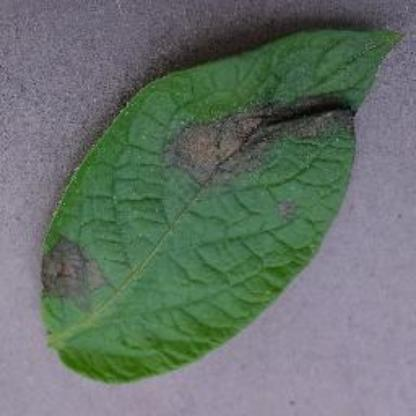Late-Blight: (39, 20, 407, 384)
